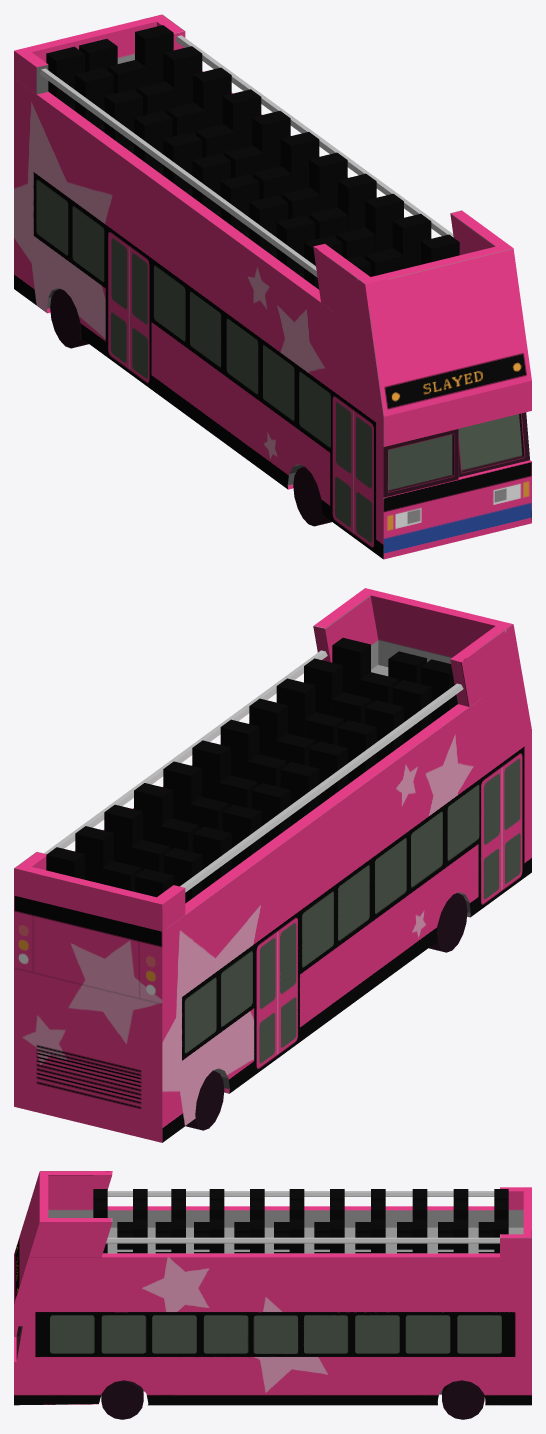
Rendered from tourism bus.fbx.
3 views of the same model, one above another, from view 1: azimuth 30°, elevation 25°; view 2: azimuth 150°, elevation 25°; view 3: azimuth 270°, elevation 25° (orthographic). The views are drawn at different scales.
Visible parts, largest first — view 1: Wheels.004; view 2: Wheels.004; view 3: Wheels.004.
Boxes of the visible parts, <box> form: Wheels.004: <box>14,14,531,559</box>; Wheels.004: <box>14,588,531,1142</box>; Wheels.004: <box>14,1171,531,1419</box>.
Size of the model in its own units: 298 by 543 by 1283.
